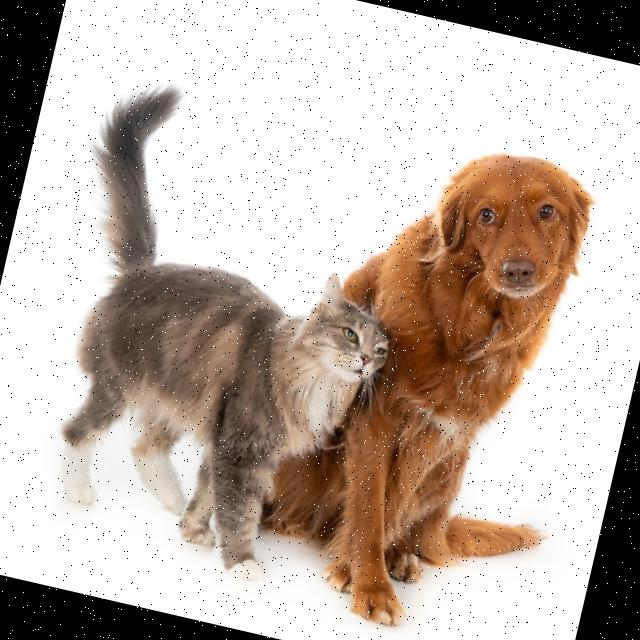Dog: (249, 115, 629, 640)
